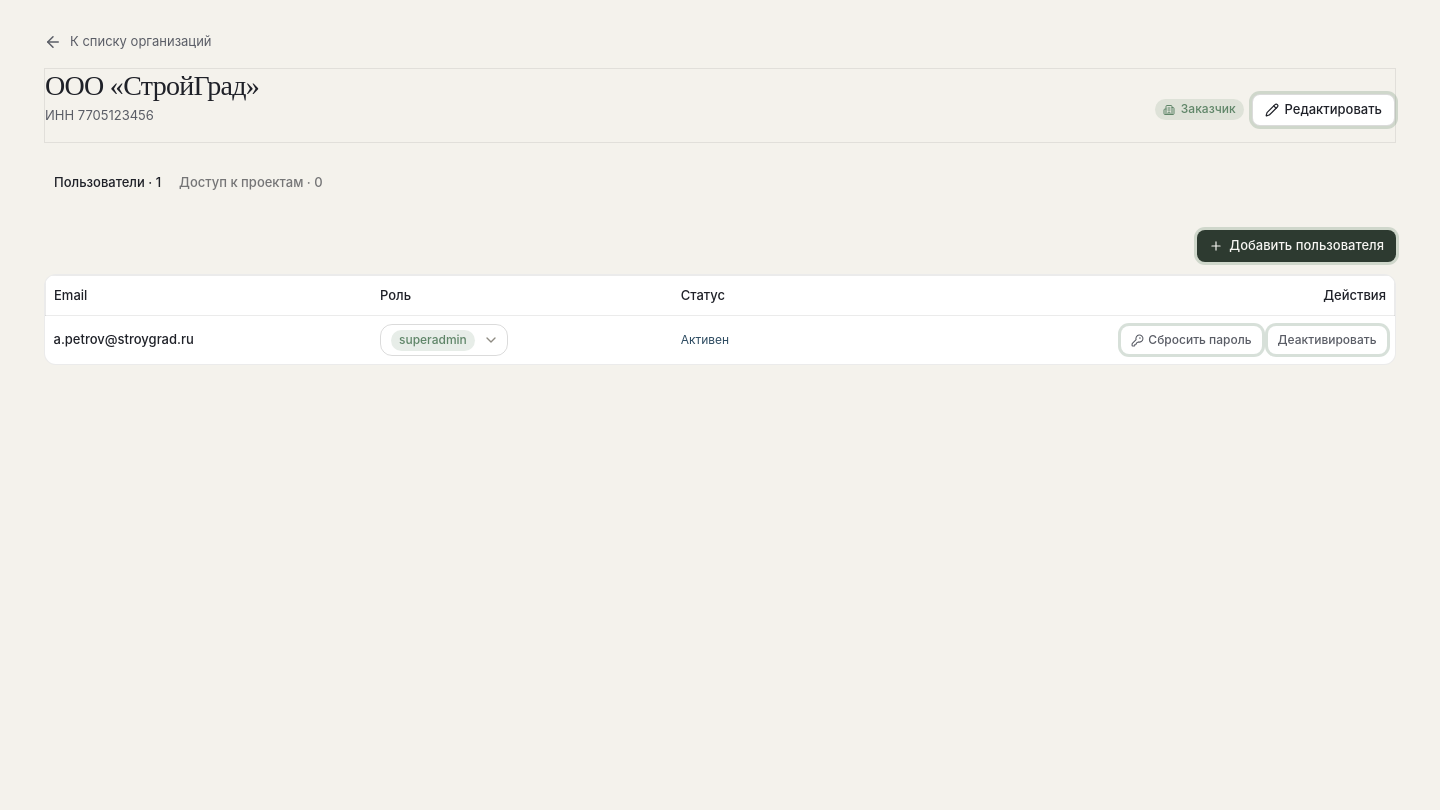
Scenario: AdminOrgDetail — редактирование организации › кнопка «Редактировать» открывает диалог с предзаполненными полями
Check: the heading "ООО «СтройГрад»" is shown, box x1=45 y1=68 x2=259 y2=102
What coordinates should you click on to do the following:
click the button "Редактировать"
I would click on:
 (1323, 110)
Its box is x1=1252 y1=94 x2=1395 y2=126.
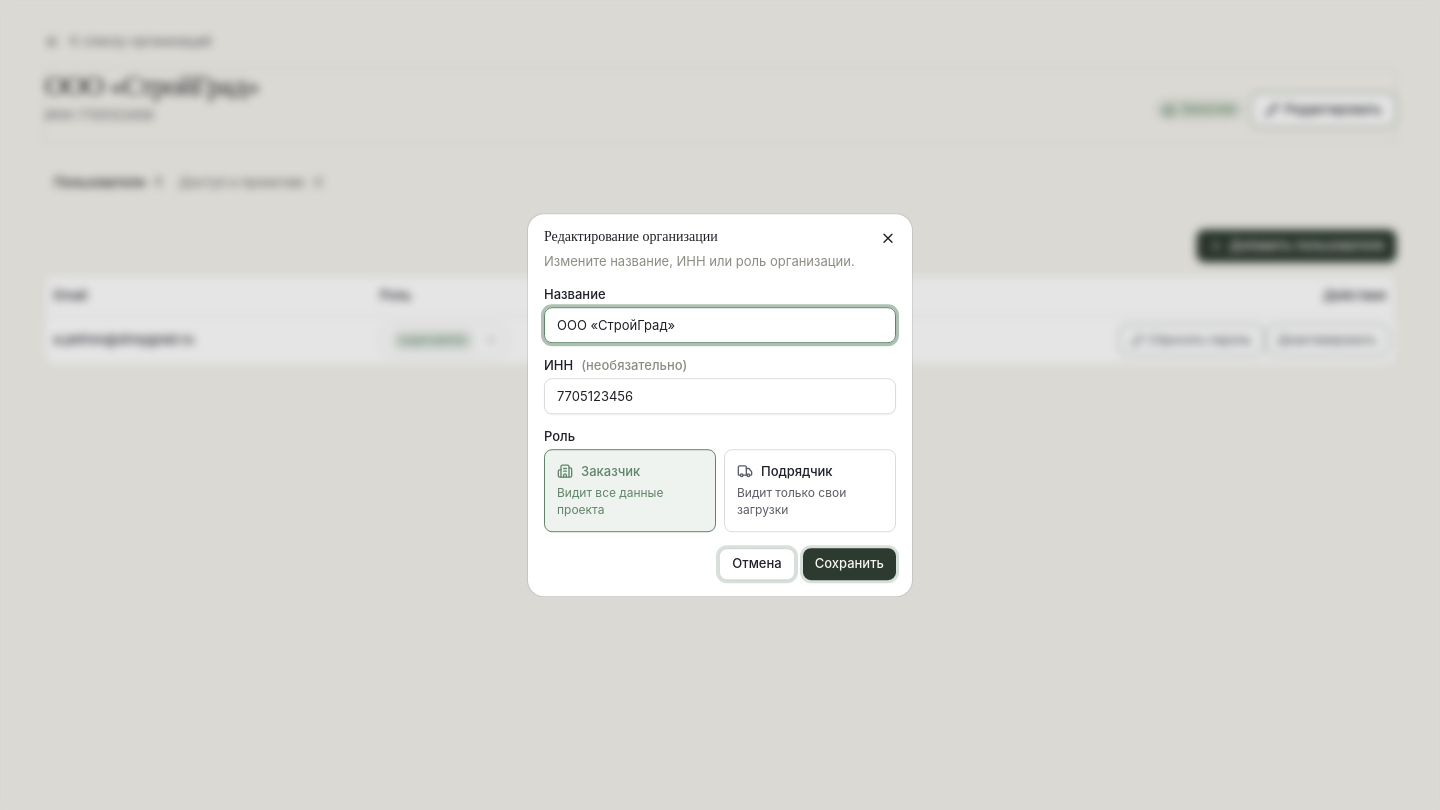
Check: the field labelled "Название" holds "ООО «СтройГрад»", box x1=544 y1=307 x2=896 y2=343
Check: the field labelled "ИНН (необязательно)" holds "7705123456", box x1=544 y1=378 x2=896 y2=414
